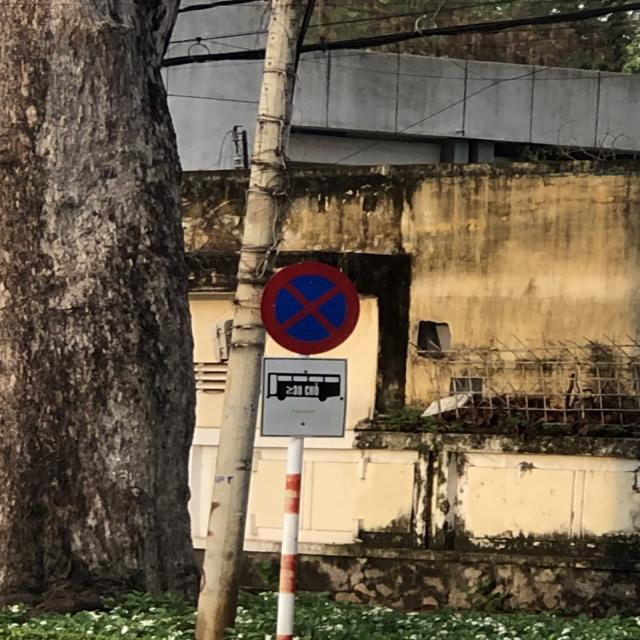Bien bao cam dung xe va do xe: (255, 249, 365, 355)
